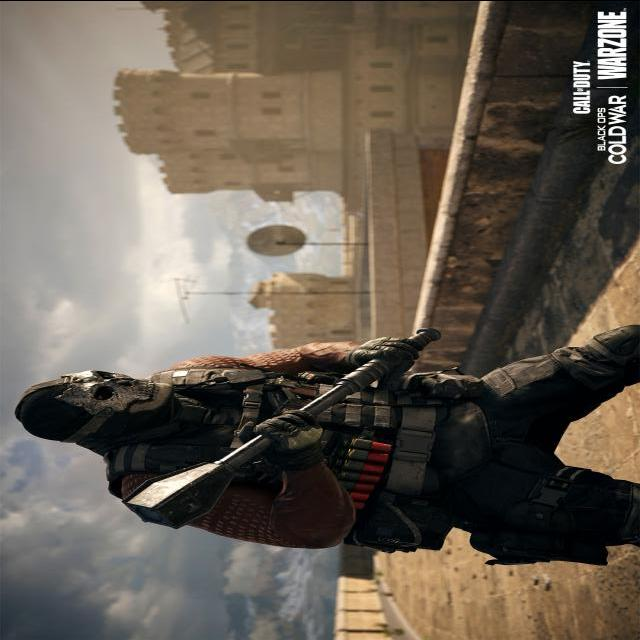mace: (122, 333, 425, 529)
